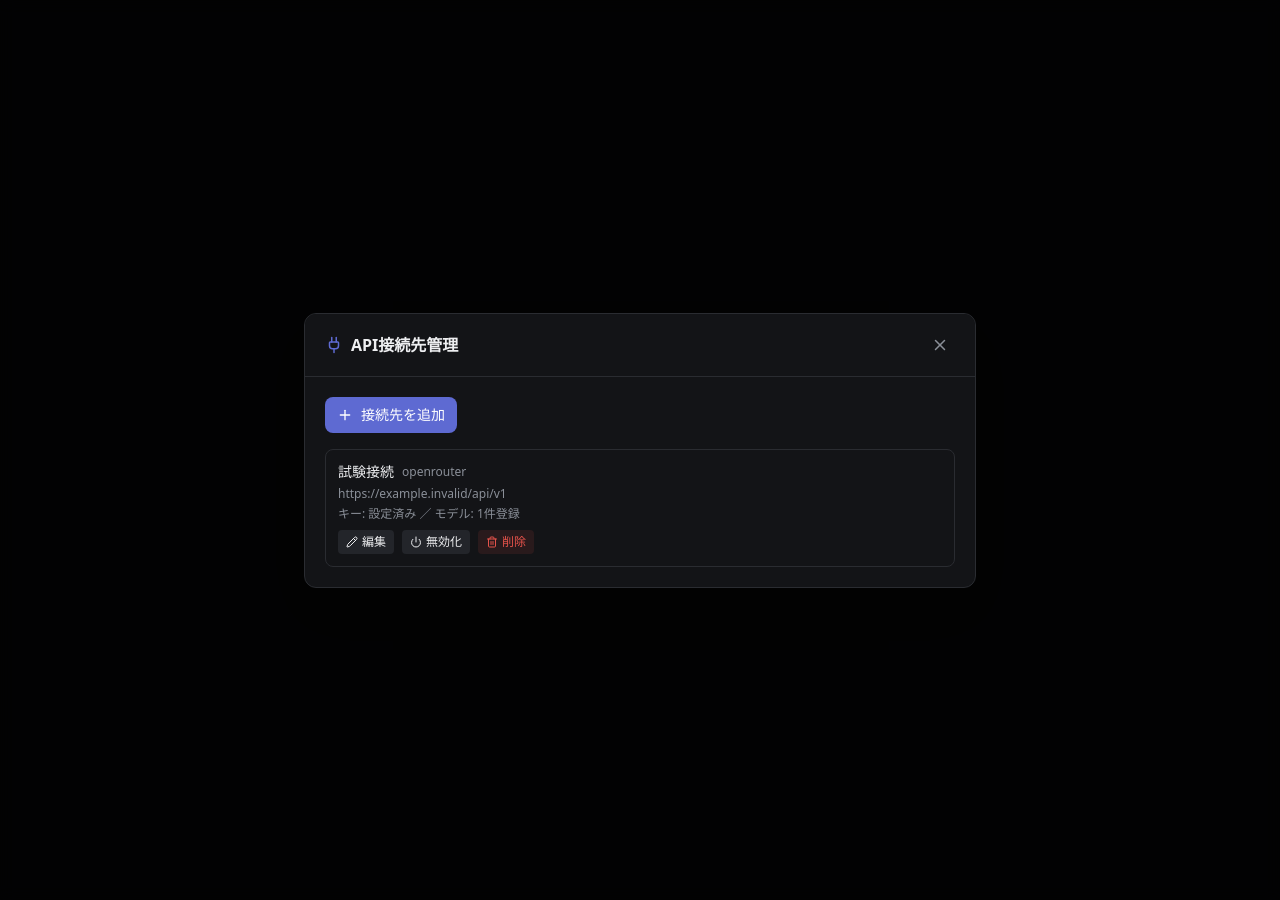
it: API接続先管理UI › 登録済みモデルは再接続テストをせず編集画面に表示する
The width and height of the screenshot is (1280, 900).
Expected: the text "試験接続" is shown, [338,462,394,482]
Click the button "編集" at (366, 542), box [338,530,394,554]
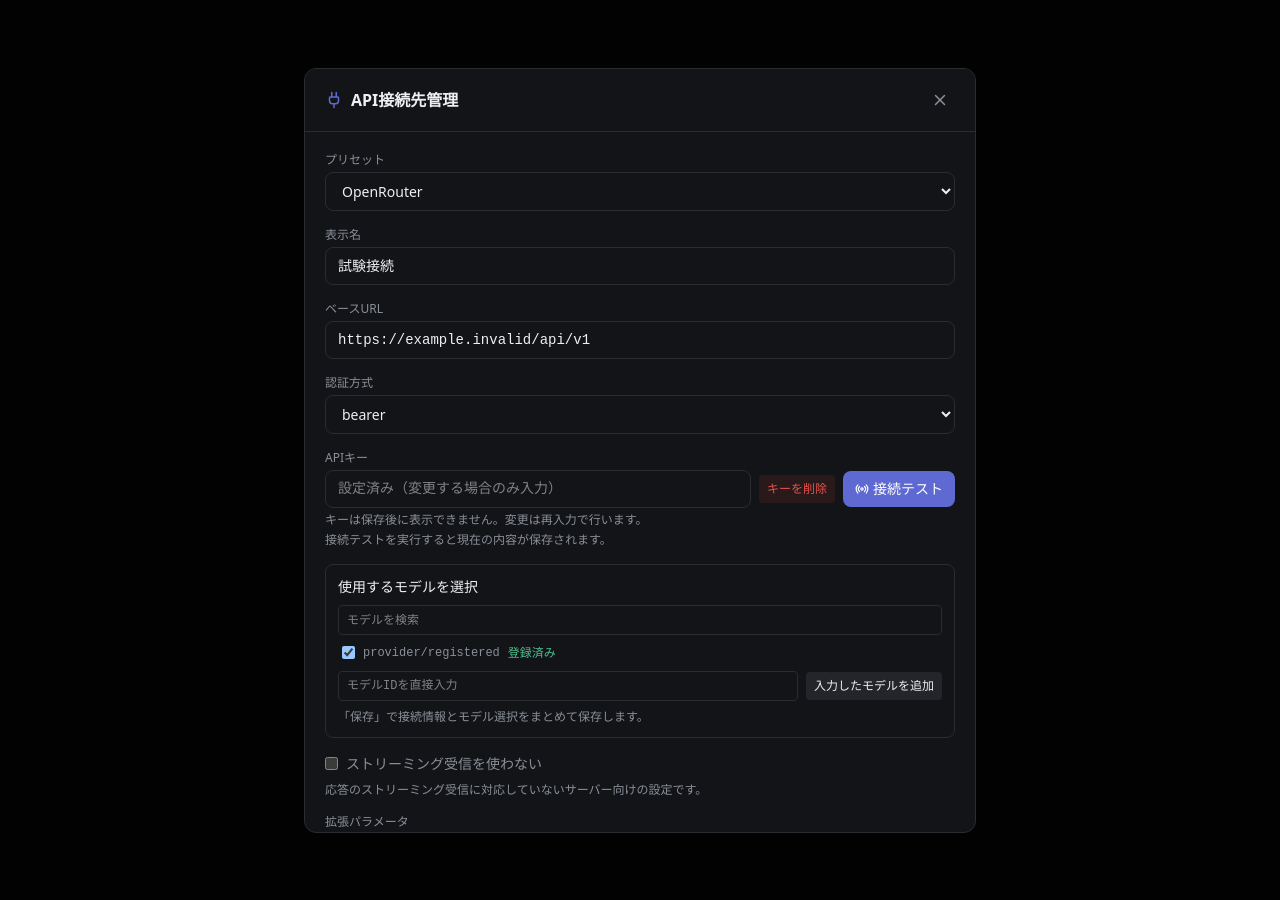
Now the field showing "試験接続" below "表示名" is shown, box [325,246,955,284]
Now the checkbox labelled "provider/registered 登録済み" is checked, box [342,646,355,659]
